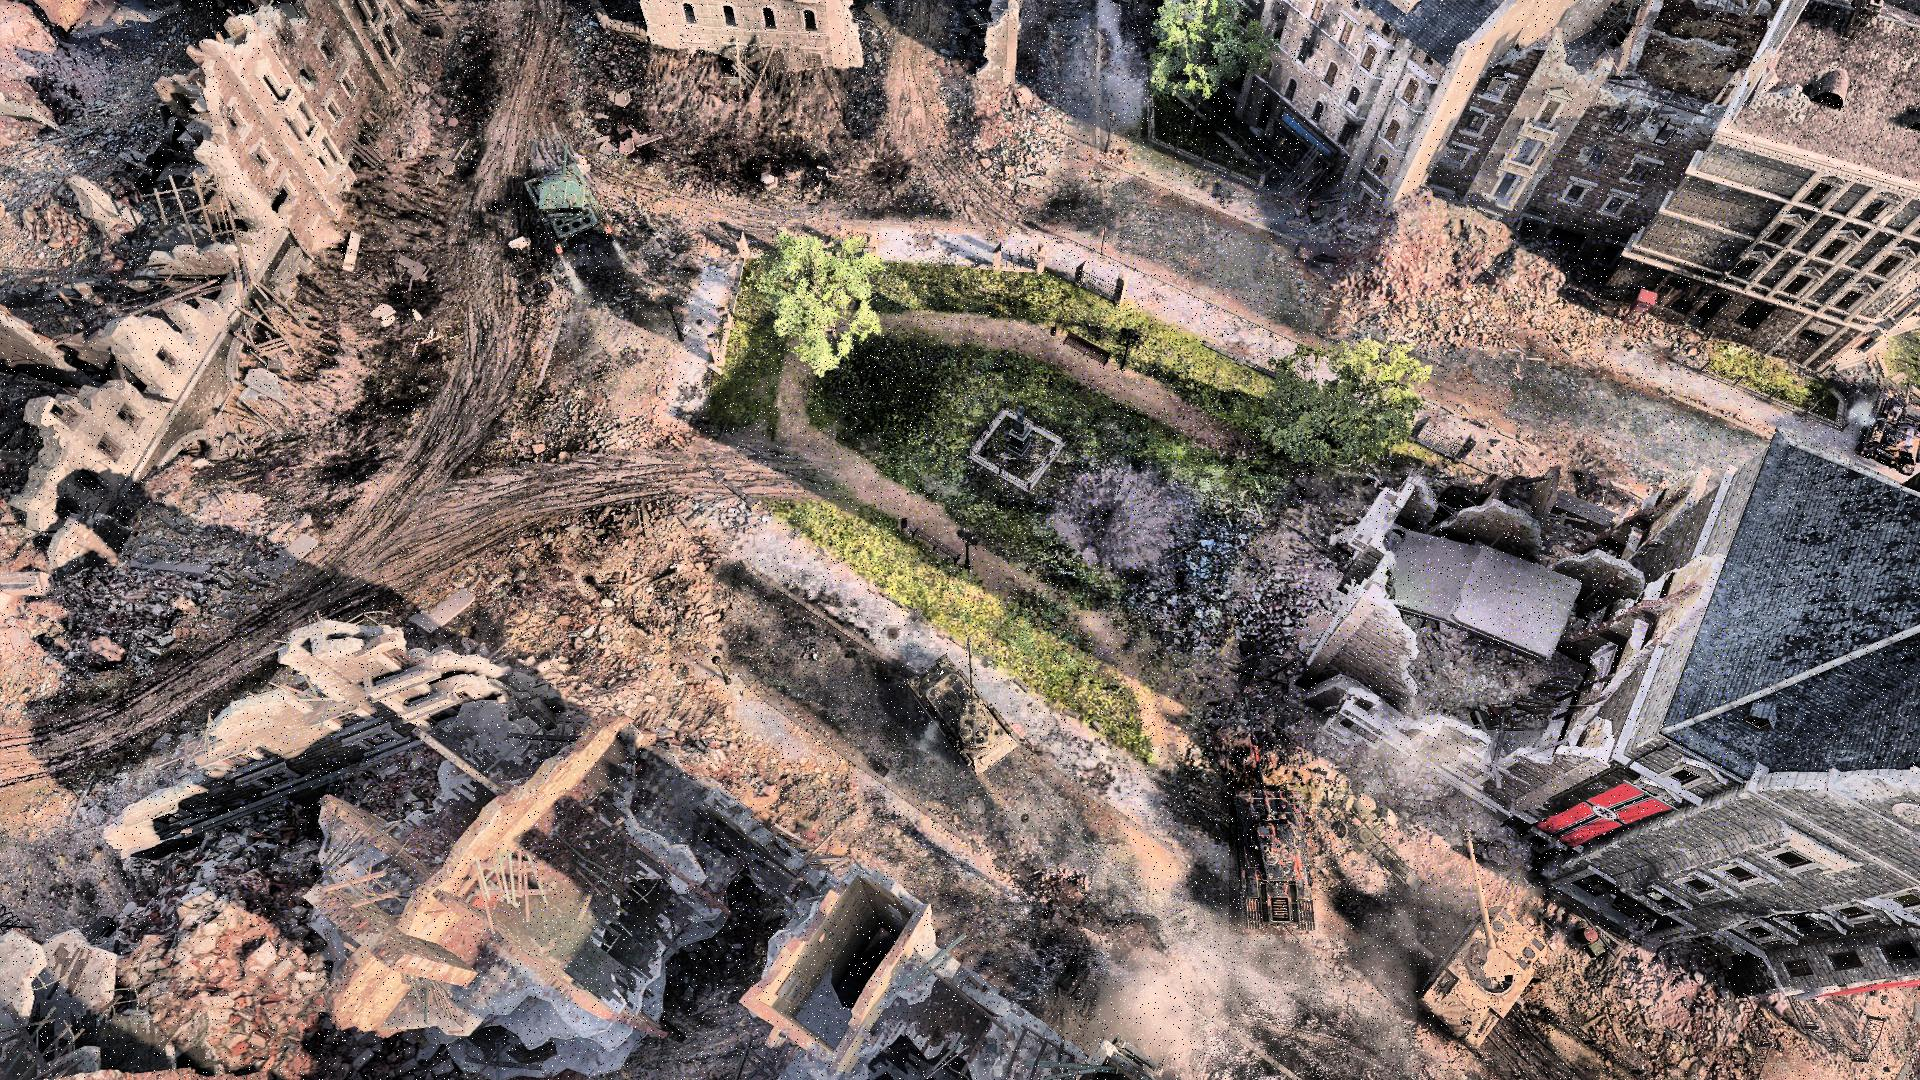military-vehicle: (1417, 830, 1548, 1050), (1230, 733, 1317, 935), (908, 633, 1018, 772)
